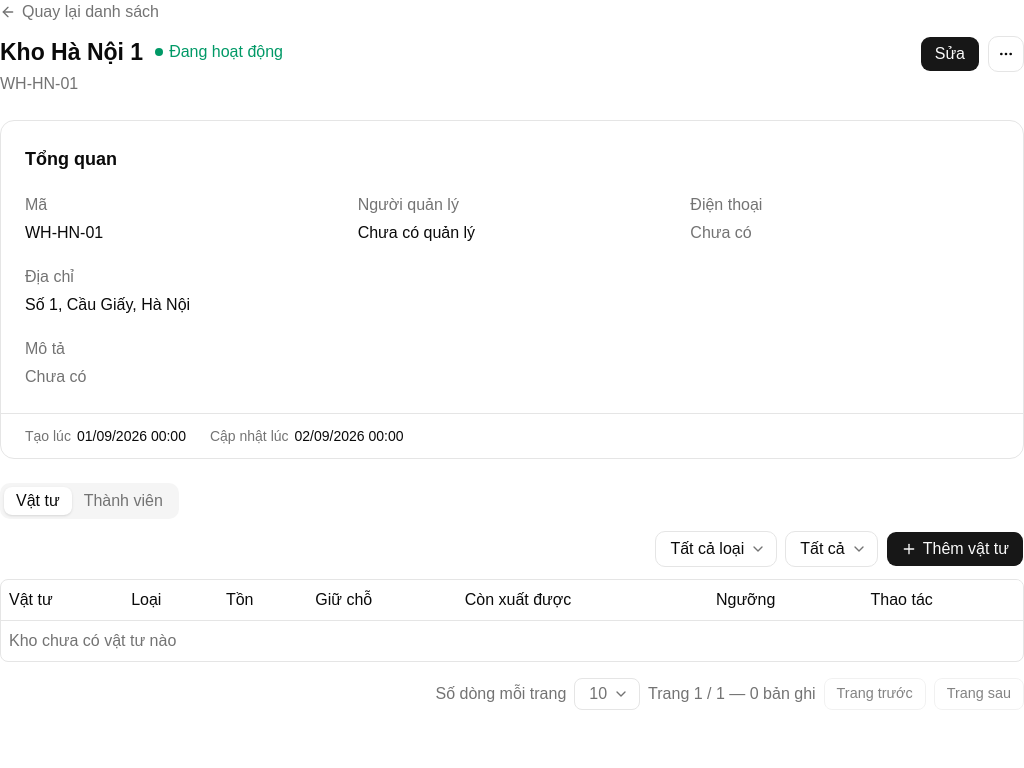
Test: WarehouseDetailPage — quay lại và thao tác › có quyền → Sửa mở form; lưu xong nội dung trang cập nhật tên mới
The width and height of the screenshot is (1024, 768).
Check: the heading "Kho Hà Nội 1" is shown, box left=0, top=36, right=143, bottom=68
Click the button "Sửa": (950, 54) left=920, top=36, right=980, bottom=72
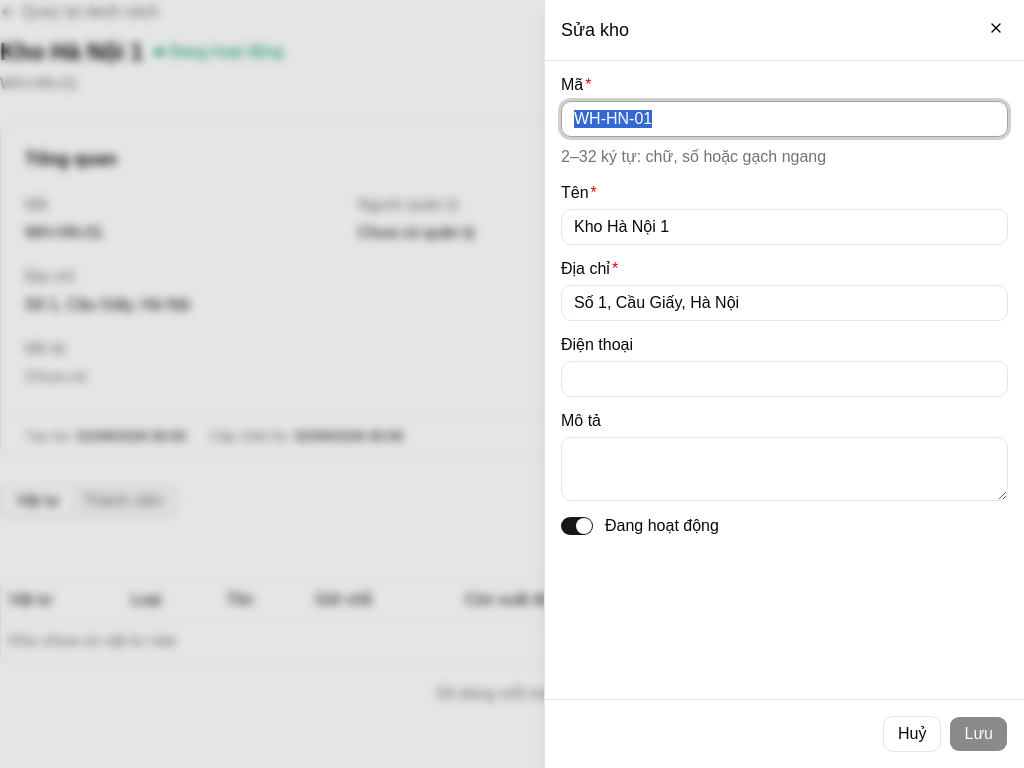
Replace the text in the field labelled "Tên" with "Kho Hà Nội 1B": (784, 227) left=561, top=209, right=1008, bottom=245
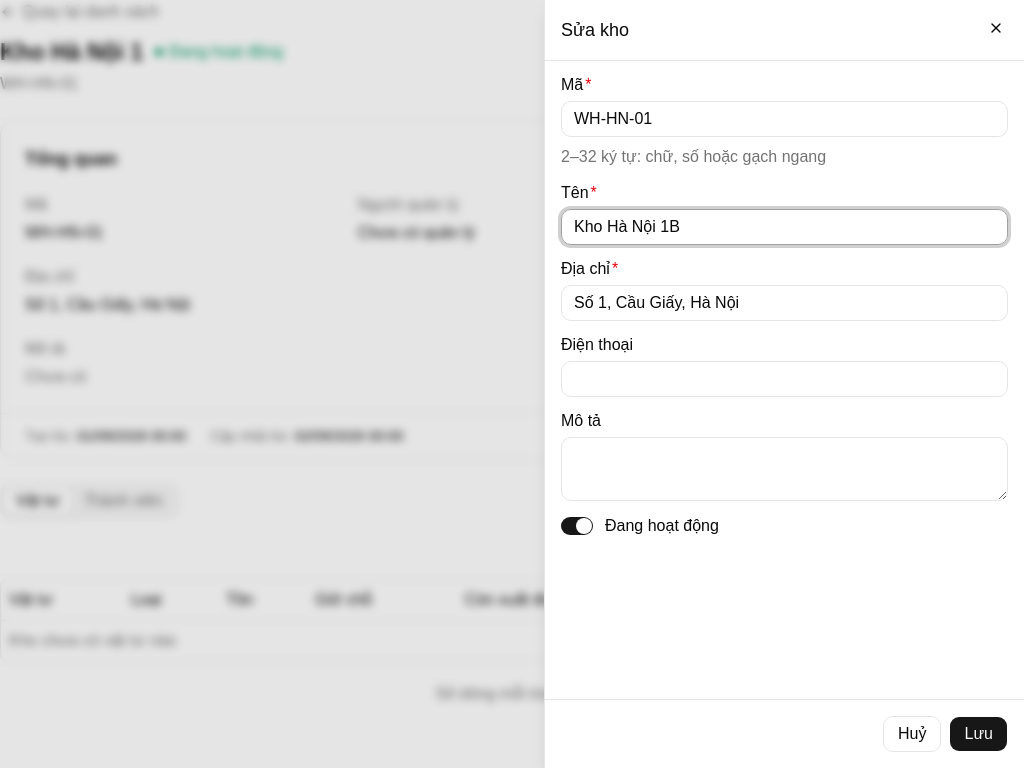
Click the button "Lưu": (979, 734) left=950, top=716, right=1008, bottom=752
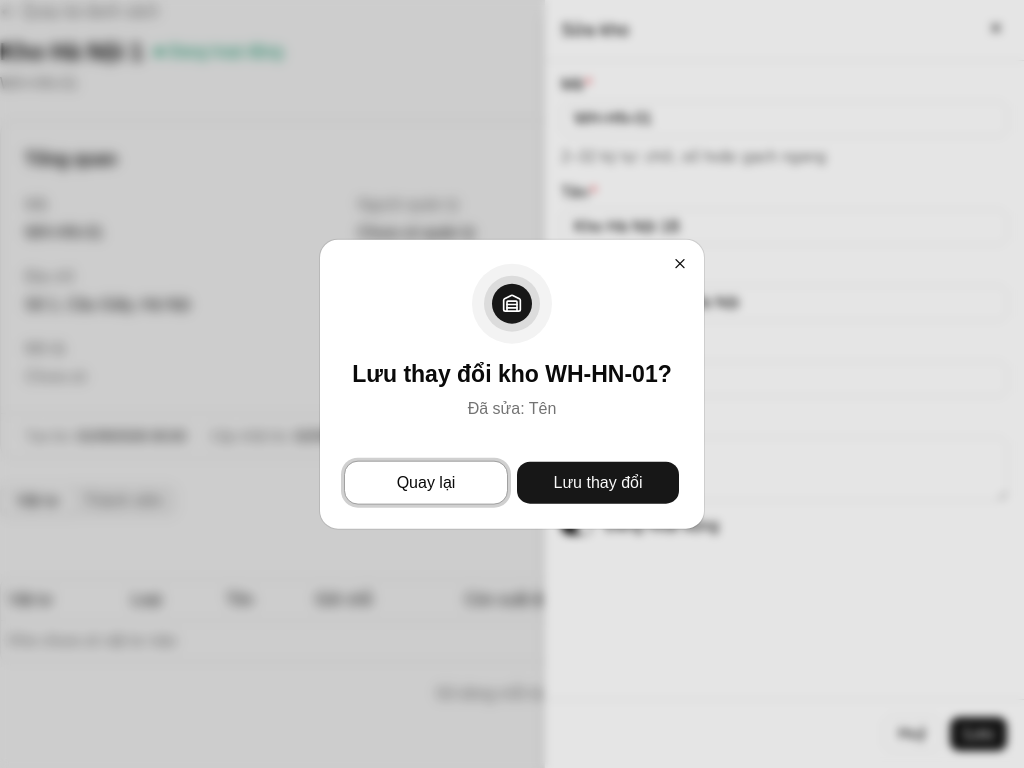
Click the button "Lưu thay đổi": (598, 482) left=516, top=460, right=680, bottom=504
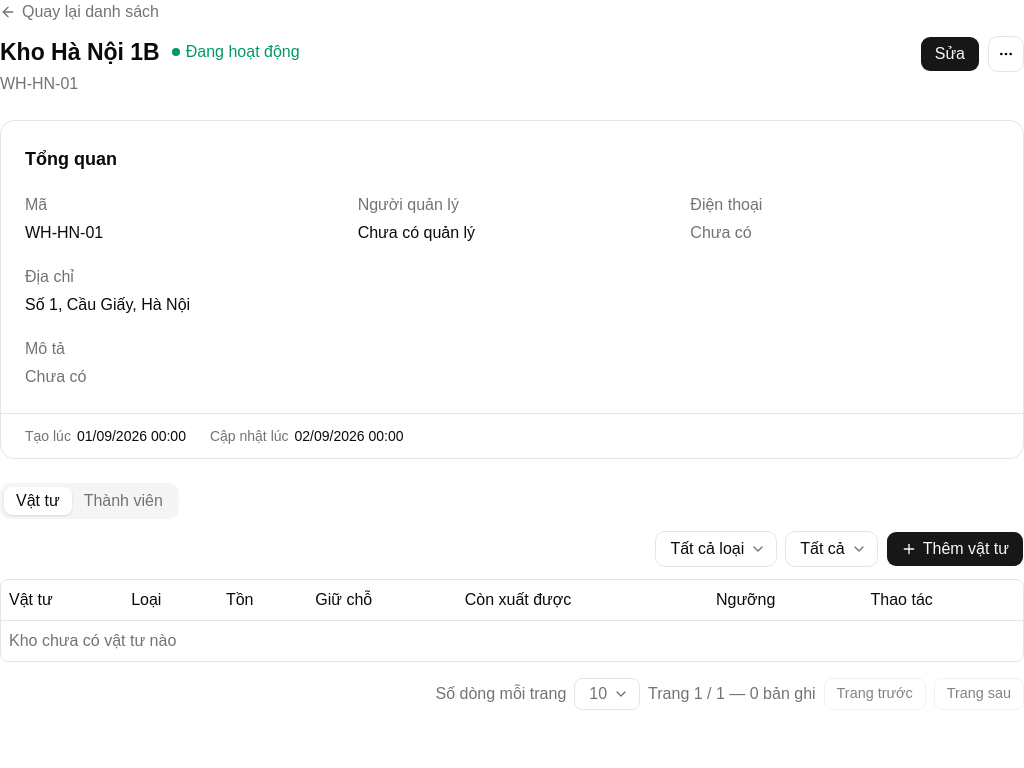
Check: the heading "Kho Hà Nội 1B" is shown, box left=0, top=36, right=160, bottom=68
